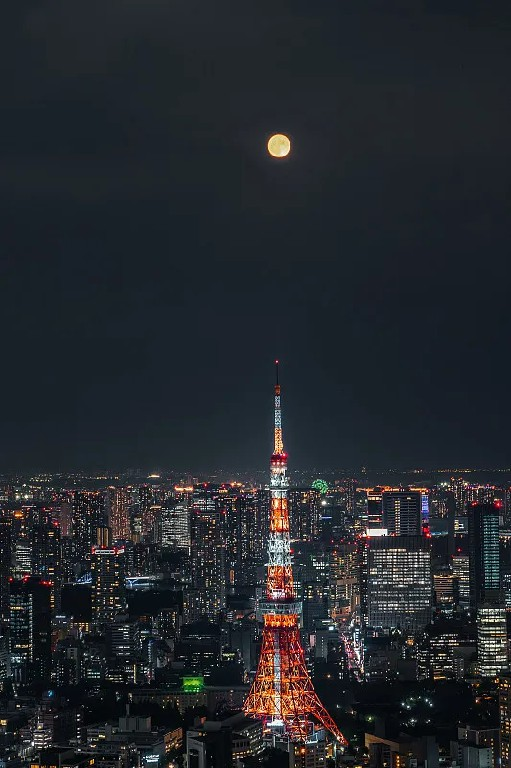Tokyo: (243, 352, 345, 749)
